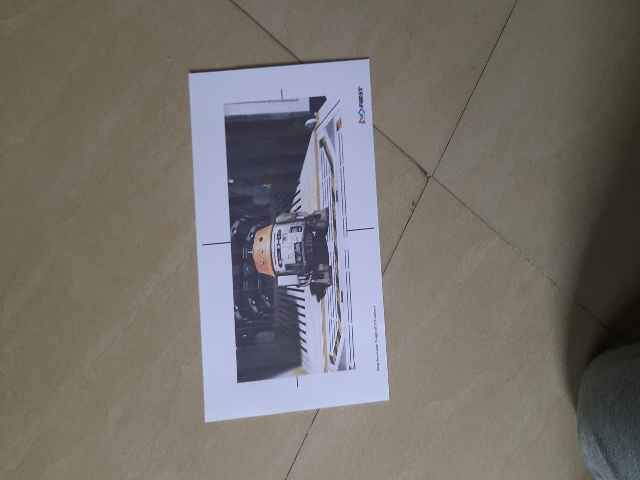rept2: (188, 71, 396, 407)
